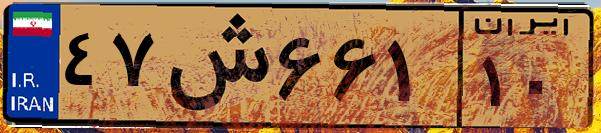0: (525, 38, 570, 115)
1: (385, 28, 445, 110), (475, 38, 525, 113)
4: (57, 26, 110, 100)
6: (270, 28, 330, 110), (330, 28, 385, 110)
7: (110, 28, 158, 98)
ش: (158, 12, 270, 120)
